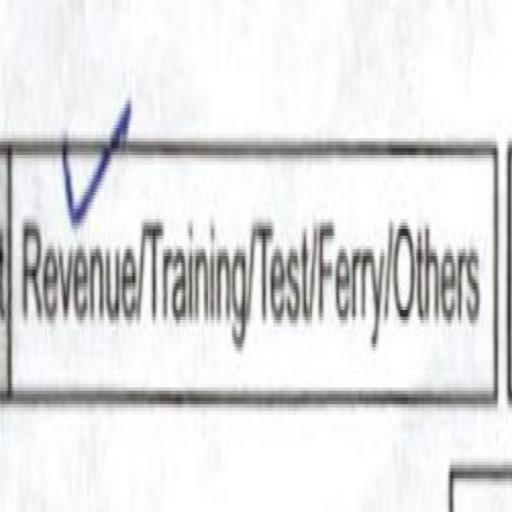check: (20, 108, 141, 451)
